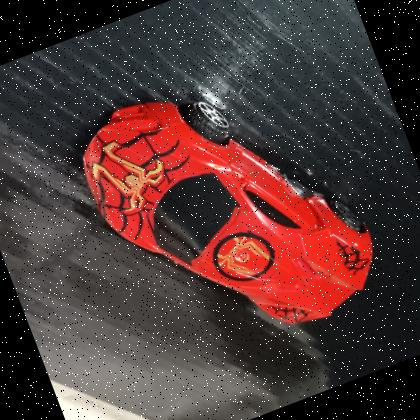Car: (55, 30, 400, 389)
